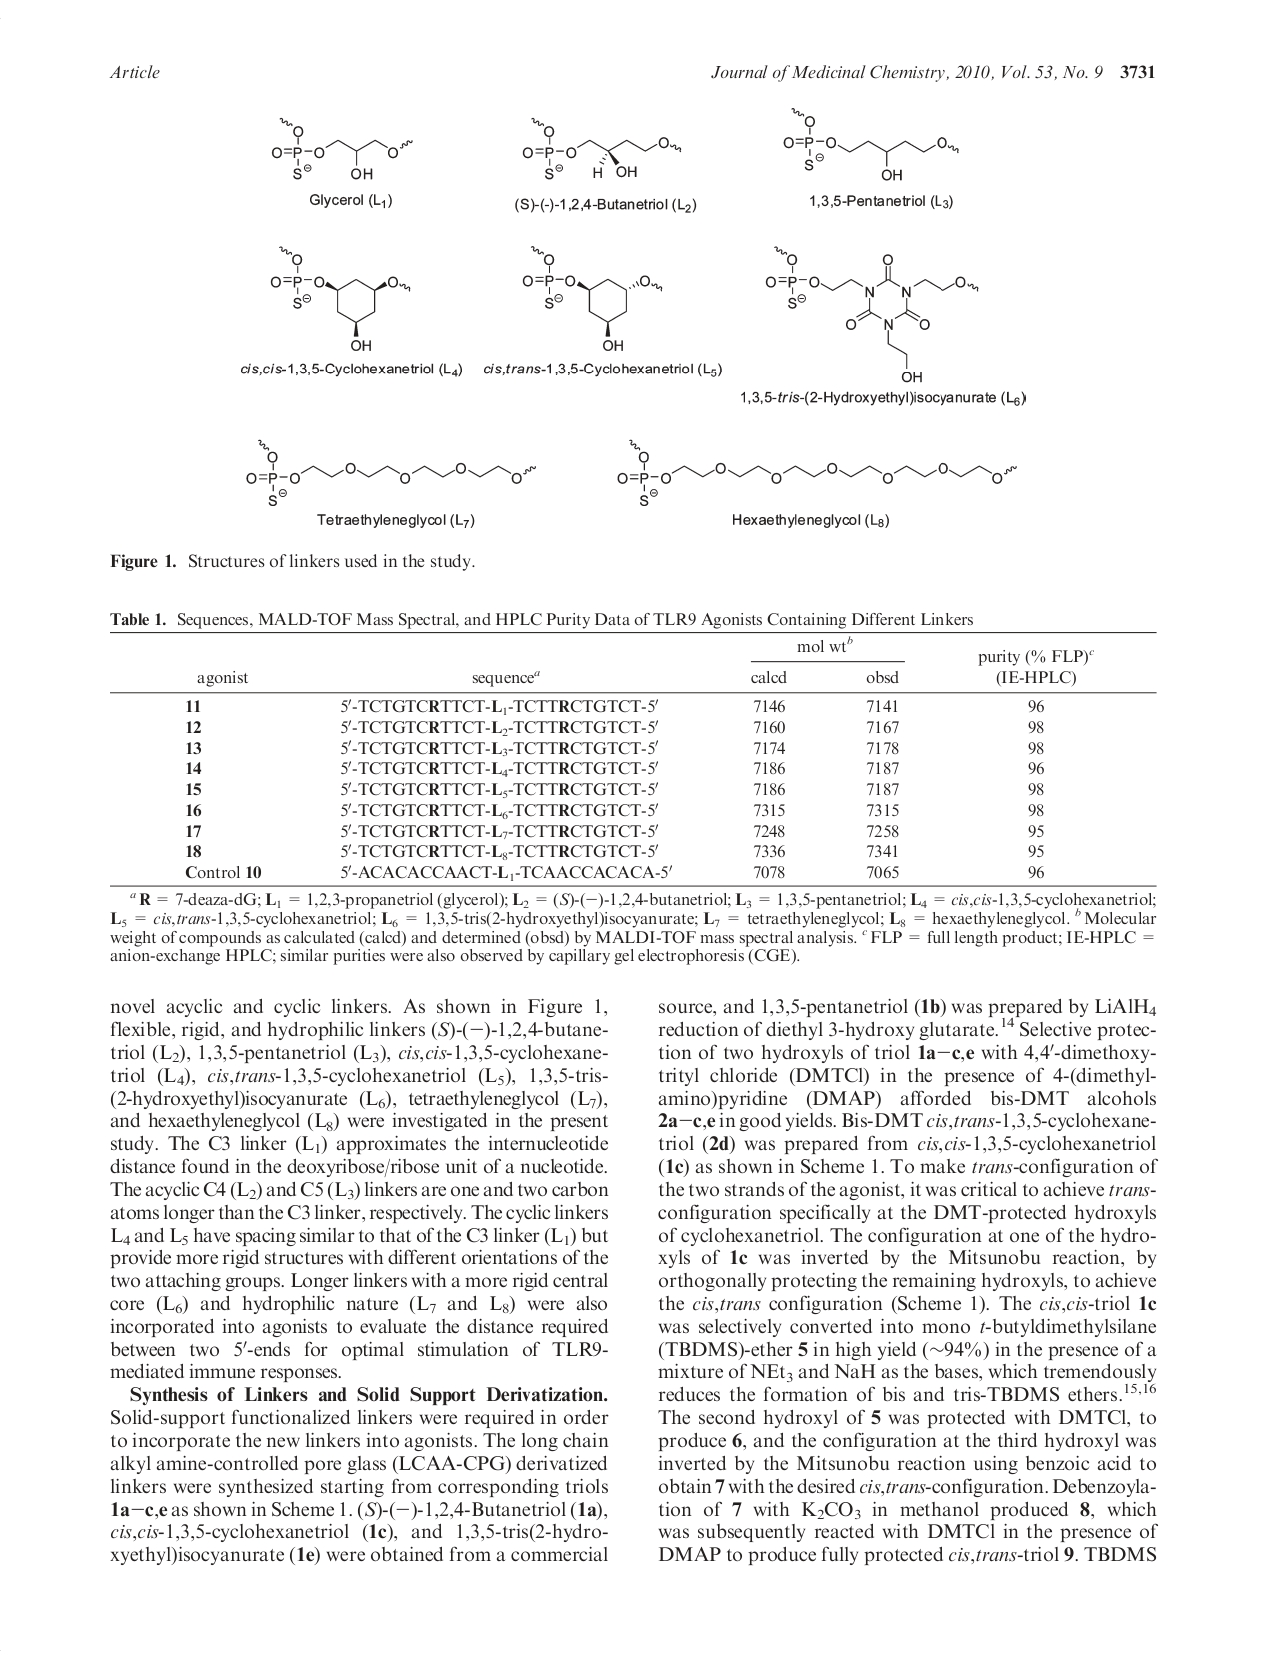exist_molecular: (604, 430, 1021, 508), (243, 432, 539, 508), (778, 105, 963, 192), (515, 101, 689, 188), (269, 110, 414, 186)
